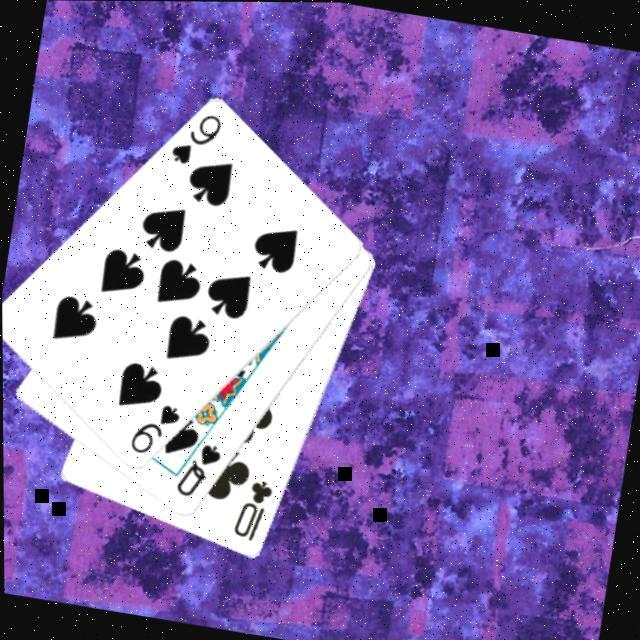10C: (227, 474, 275, 547)
9S: (165, 105, 226, 174), (123, 397, 184, 464)
QS: (170, 436, 225, 505)
